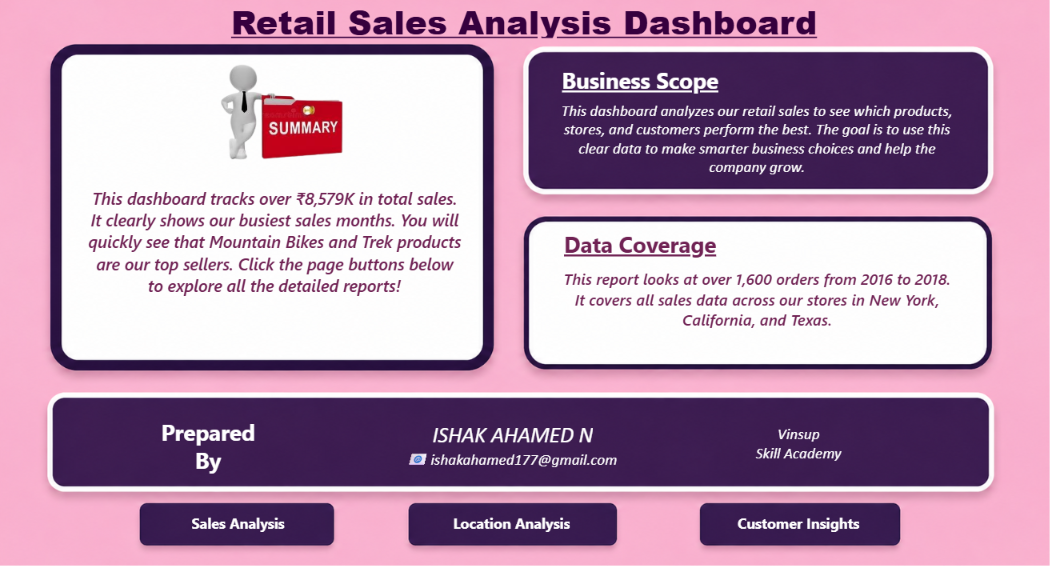

The page's visual inventory and layout, read from the dashboard file:
{"tool":"powerbi","page":{"name":"Overview","canvas":[1280,720],"ordinal":0},"visuals":[{"type":"shape","box":[672,87.9,216,41],"z":0},{"type":"image","box":[258.2,78.4,181,141.2],"z":1000},{"type":"shape","box":[0,0,1280,68.8],"z":2000},{"type":"shape","box":[672,118,498.3,123.1],"z":3000},{"type":"shape","box":[686.5,306.2,469.3,133.9],"z":4000},{"type":"shape","box":[471.7,512.5,308.8,48.3],"z":5000},{"type":"shape","box":[470.5,548.9,308.8,35],"z":6000},{"type":"shape","box":[112.2,109.8,453.6,387.3],"z":7000},{"type":"actionButton","box":[174.9,616.5,240.1,54.3],"z":8000},{"type":"actionButton","box":[498.3,616.5,253.4,54.3],"z":9000},{"type":"actionButton","box":[849.3,616.5,243.7,54.3],"z":10000},{"type":"shape","box":[672,285.7,216,41],"z":11000},{"type":"shape","box":[150.8,512.7,216,41],"z":12000},{"type":"shape","box":[150.8,548.9,216,35],"z":13000},{"type":"shape","box":[875.9,510.3,190.6,51.9],"z":14000},{"type":"shape","box":[816.8,541.7,308.8,35],"z":15000}]}

Visuals, with their boxes on the page's 1280x720 design canvas (x1, y1, x2, y2). These are canvas units, not pixel positions in the 1050x566 screenshot, which may show the page scaled, cropped or inside an application window:
shape: <region>672, 88, 888, 129</region>
image: <region>258, 78, 439, 220</region>
shape: <region>0, 0, 1280, 69</region>
shape: <region>672, 118, 1170, 241</region>
shape: <region>686, 306, 1156, 440</region>
shape: <region>472, 512, 780, 561</region>
shape: <region>470, 549, 779, 584</region>
shape: <region>112, 110, 566, 497</region>
actionButton: <region>175, 616, 415, 671</region>
actionButton: <region>498, 616, 752, 671</region>
actionButton: <region>849, 616, 1093, 671</region>
shape: <region>672, 286, 888, 327</region>
shape: <region>151, 513, 367, 554</region>
shape: <region>151, 549, 367, 584</region>
shape: <region>876, 510, 1066, 562</region>
shape: <region>817, 542, 1126, 577</region>
